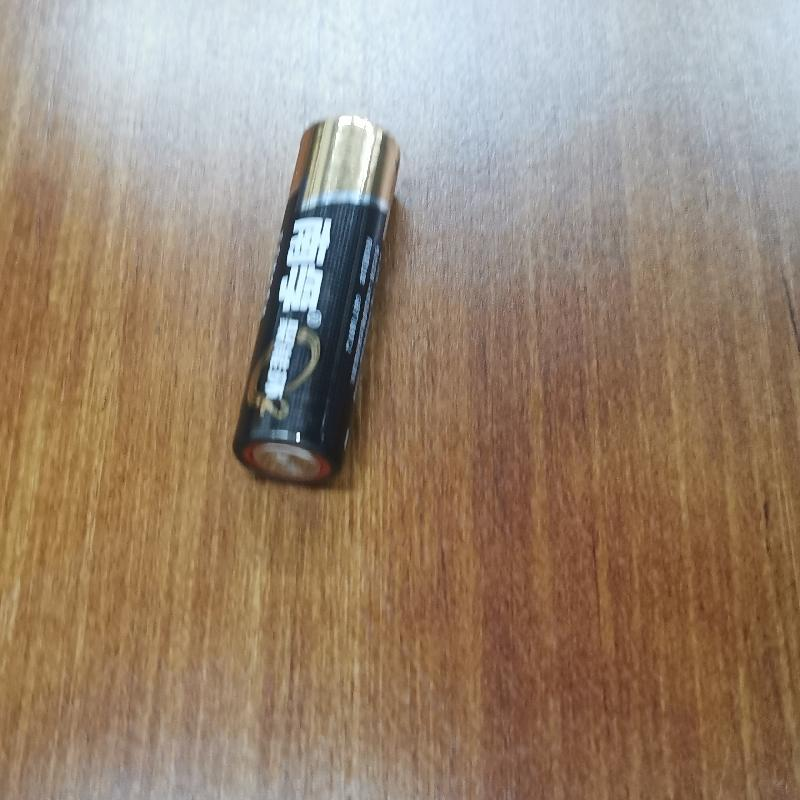battery: (215, 108, 429, 490)
